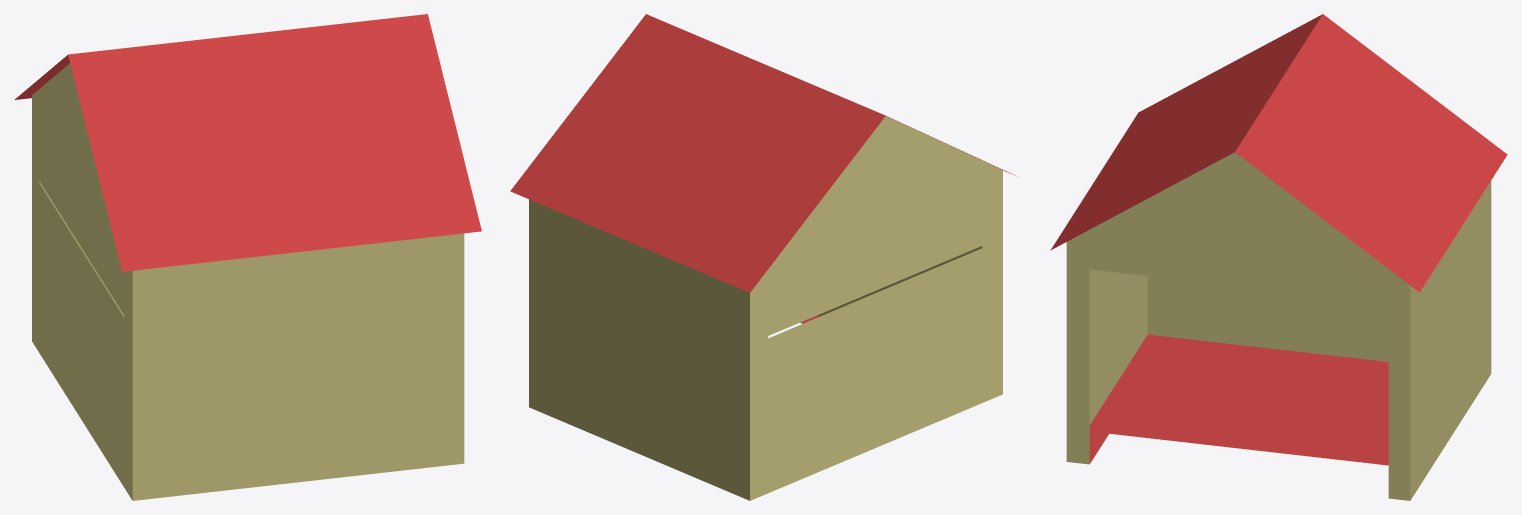
3 renders of one model, left to right at view 1: azimuth 30°, elevation 25°; view 2: azimuth 150°, elevation 25°; view 3: azimuth 270°, elevation 25°, orthographic. The views are drawn at different scales.
Bounding box in the file's own units: 16.09 × 17.26 × 13.94.
